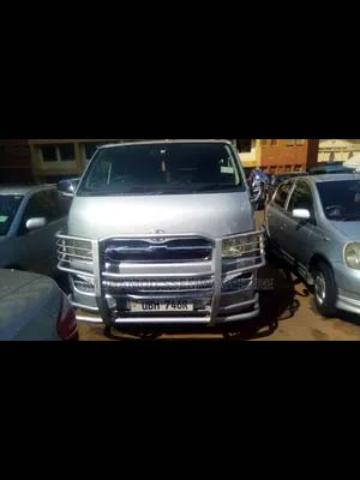van: (56, 139, 267, 324)
